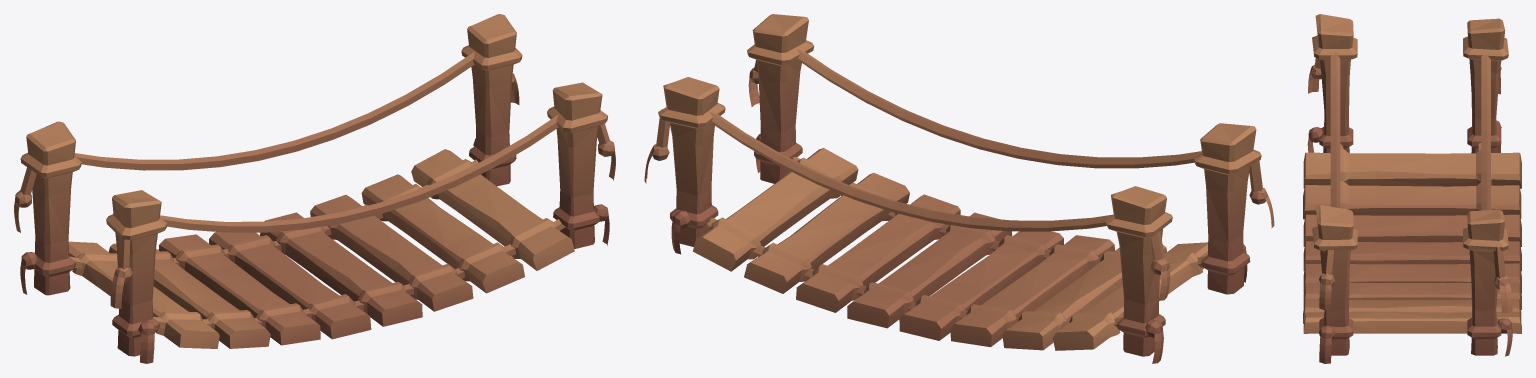
3 views of the same model, side by side, from view 1: azimuth 30°, elevation 25°; view 2: azimuth 150°, elevation 25°; view 3: azimuth 270°, elevation 25° (orthographic). The views are drawn at different scales.
Parts seen in each view (by area): view 1: prop_bridge_rope_Material #149_0; view 2: prop_bridge_rope_Material #149_0; view 3: prop_bridge_rope_Material #149_0.
Boxes of the visible parts, <box> form: prop_bridge_rope_Material #149_0: <box>14,14,615,363</box>; prop_bridge_rope_Material #149_0: <box>644,14,1274,363</box>; prop_bridge_rope_Material #149_0: <box>1303,14,1521,363</box>.
Size of the model in its own units: 1062 by 349 by 443.
